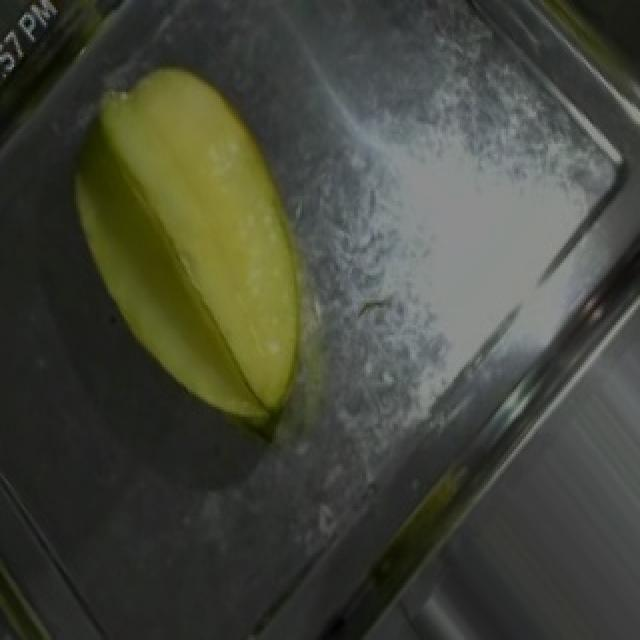fruit: (46, 32, 382, 444)
